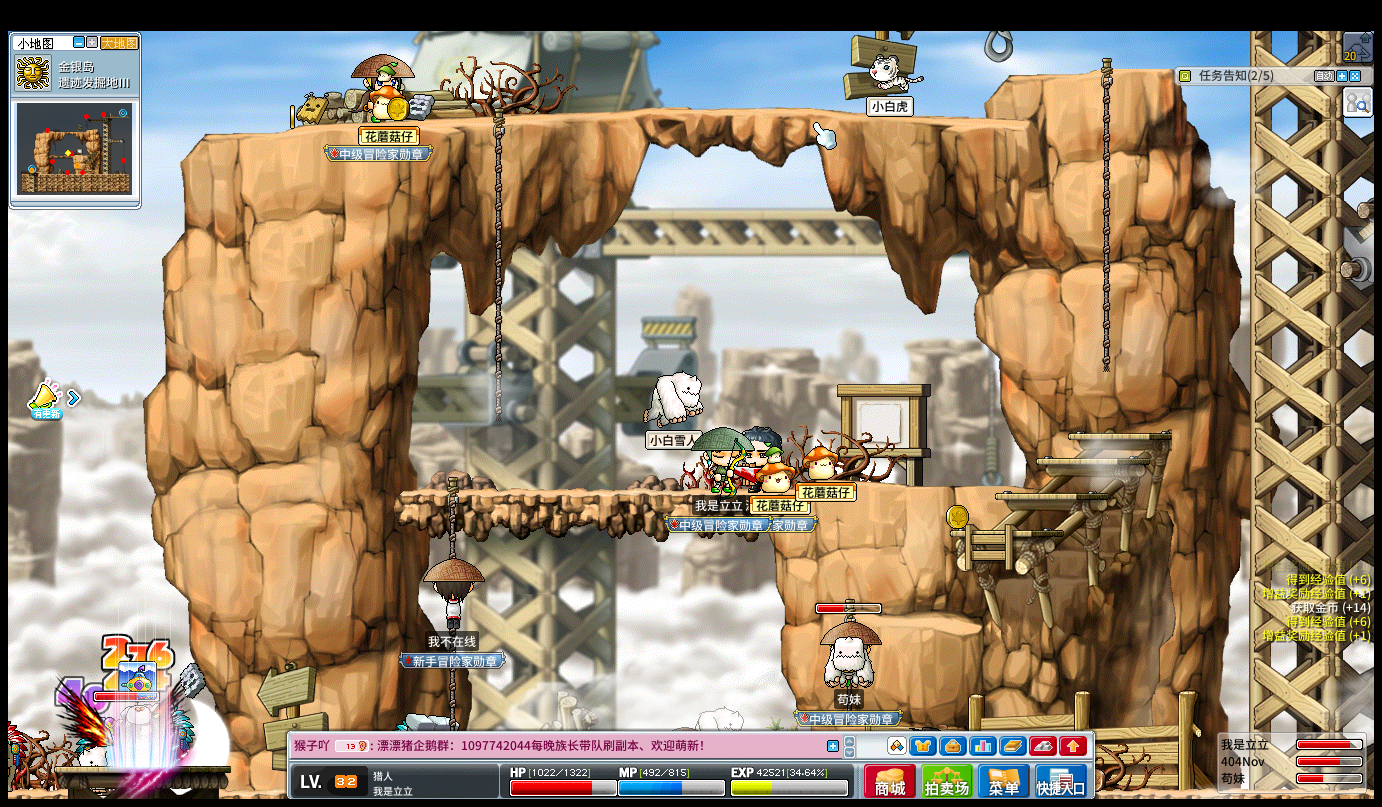floor: (197, 103, 1046, 139), (394, 488, 785, 499), (1003, 65, 1173, 78), (877, 613, 982, 634), (884, 481, 1028, 491), (1069, 429, 1173, 441), (1030, 456, 1147, 464), (995, 492, 1109, 500), (950, 528, 1063, 536)
rope: (1098, 54, 1114, 375), (492, 107, 503, 419), (444, 476, 458, 557), (447, 668, 457, 722)
